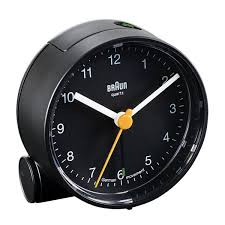alarm_clock: (15, 17, 208, 209), (15, 22, 208, 209)
